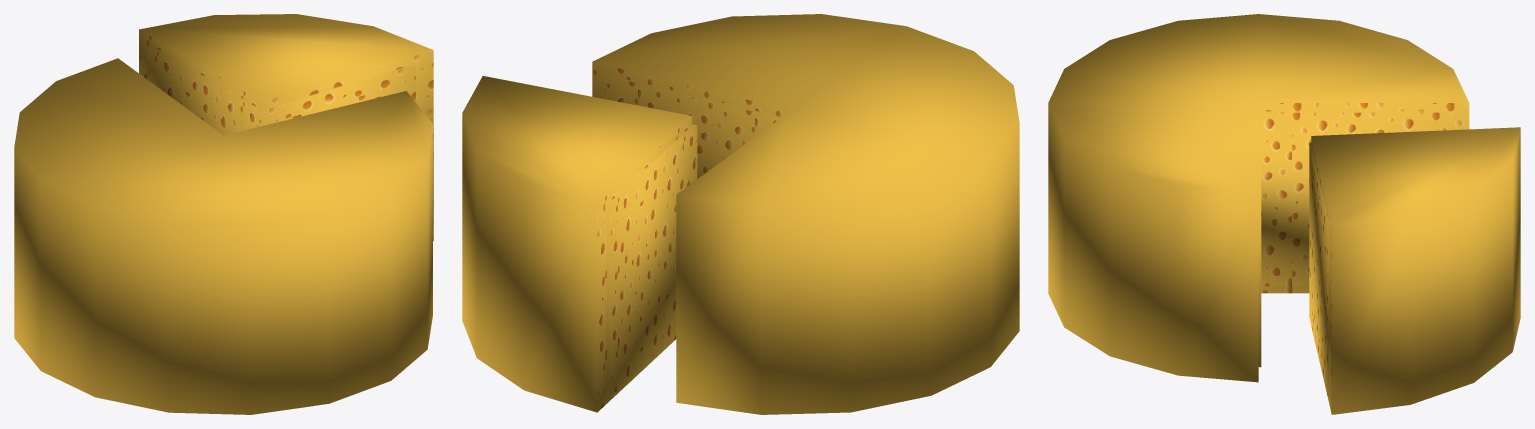
File: chesse1.fbx
3 renders of one model, left to right at view 1: azimuth 30°, elevation 25°; view 2: azimuth 150°, elevation 25°; view 3: azimuth 270°, elevation 25°, orthographic. The views are drawn at different scales.
Parts seen in each view (by area): view 1: Circle; view 2: Circle; view 3: Circle.
Boxes of the visible parts, x1,y1,x2,y2 form: Circle: (14, 14, 433, 414); Circle: (462, 14, 1019, 414); Circle: (1048, 14, 1520, 414).
Bounding box in the file's own units: 258 × 110 × 246.
